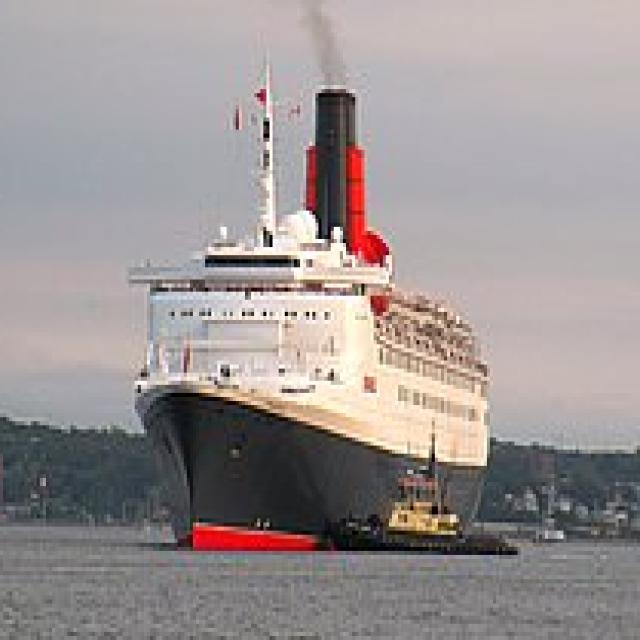Cruise: (129, 36, 496, 543)
